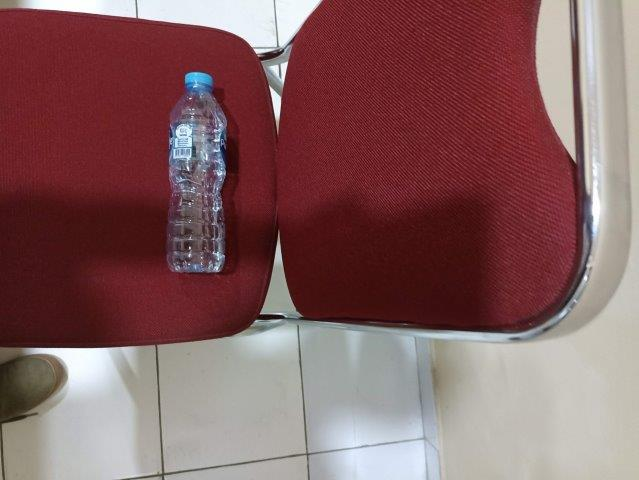botolplastik: (168, 71, 224, 273)
